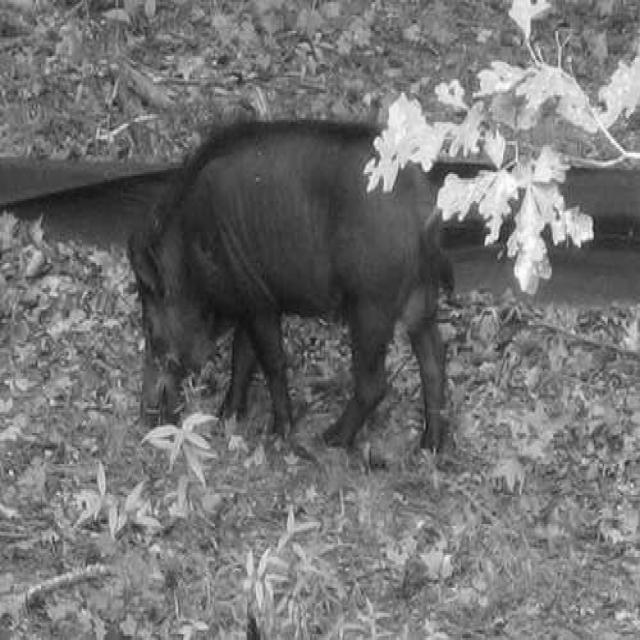boar: (128, 122, 451, 449)
